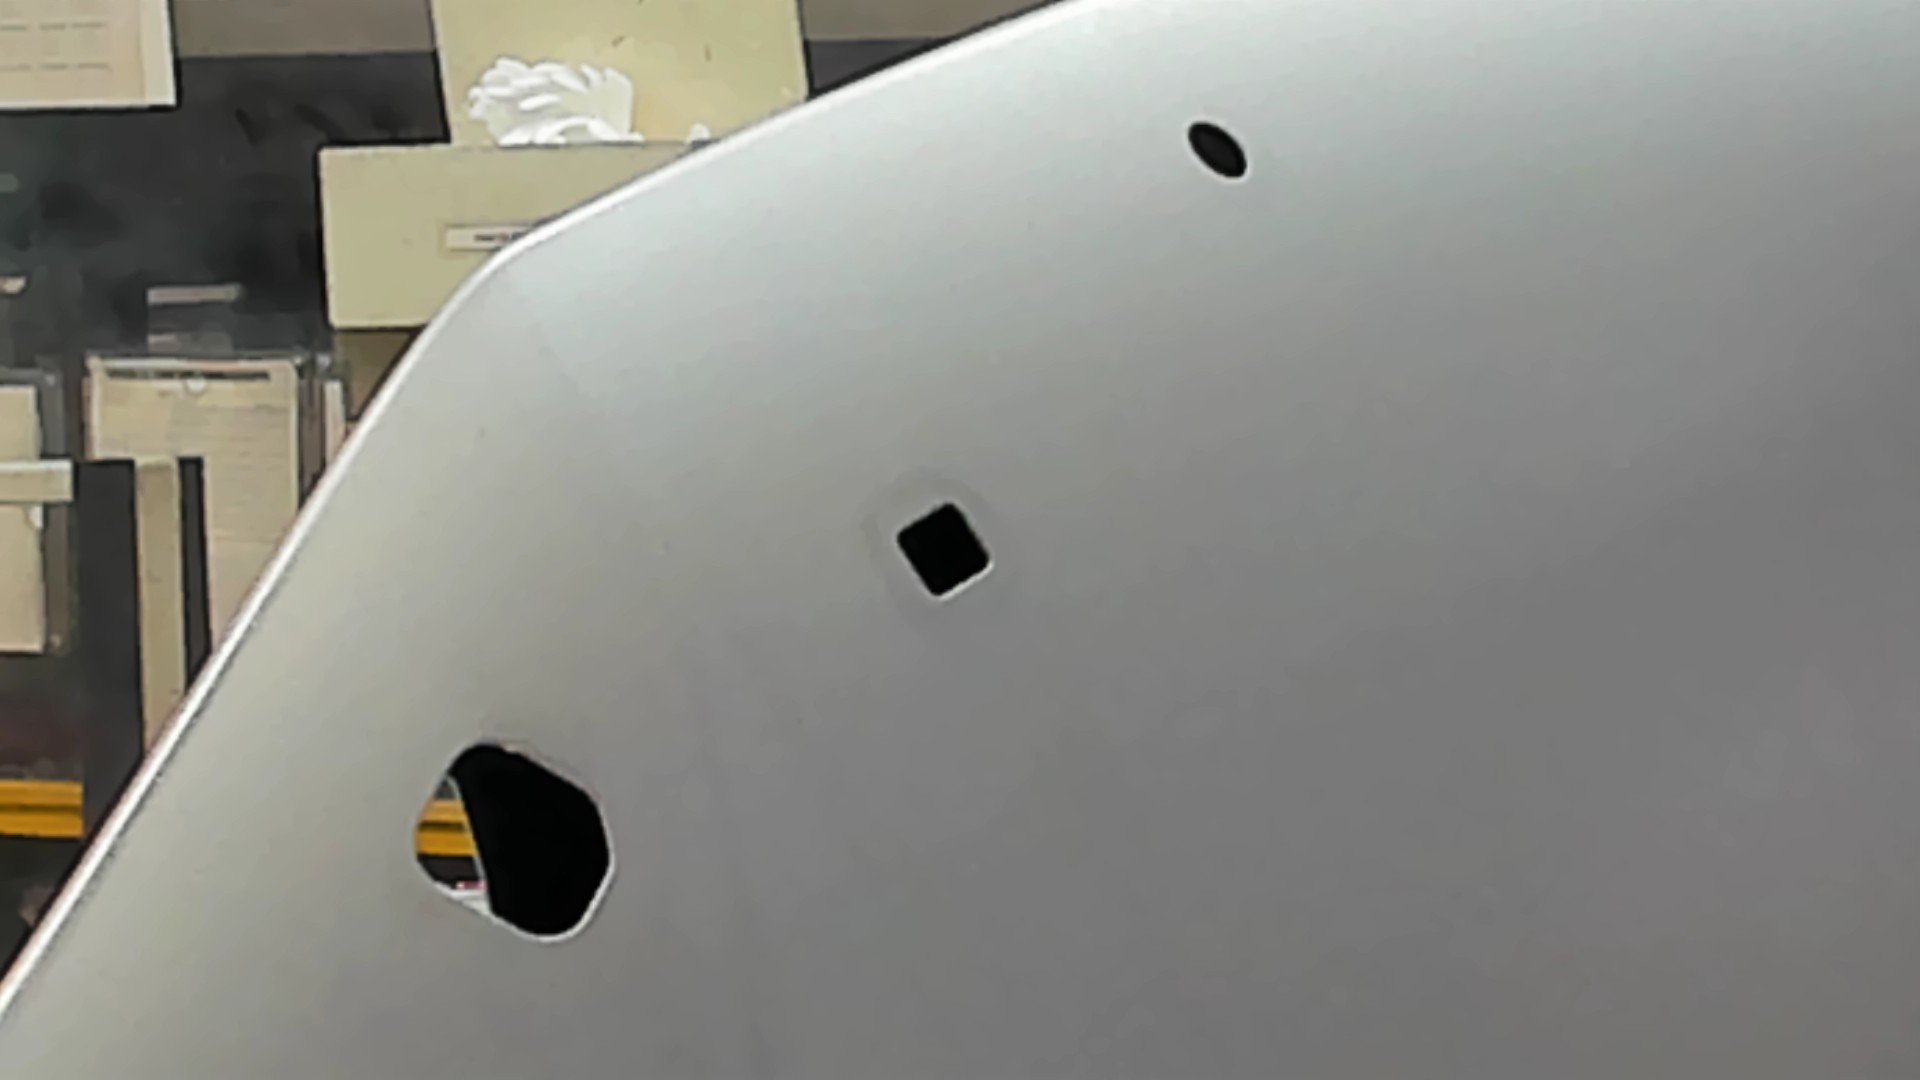Agujero: (893, 501, 994, 603), (1183, 120, 1249, 179)
Agujerote: (410, 738, 620, 943)
